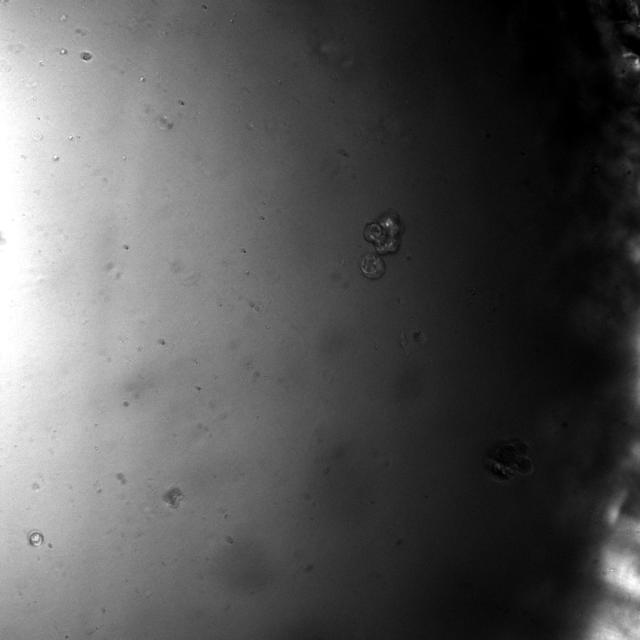organoid: (361, 209, 403, 278), (163, 486, 185, 509), (28, 530, 44, 546)
